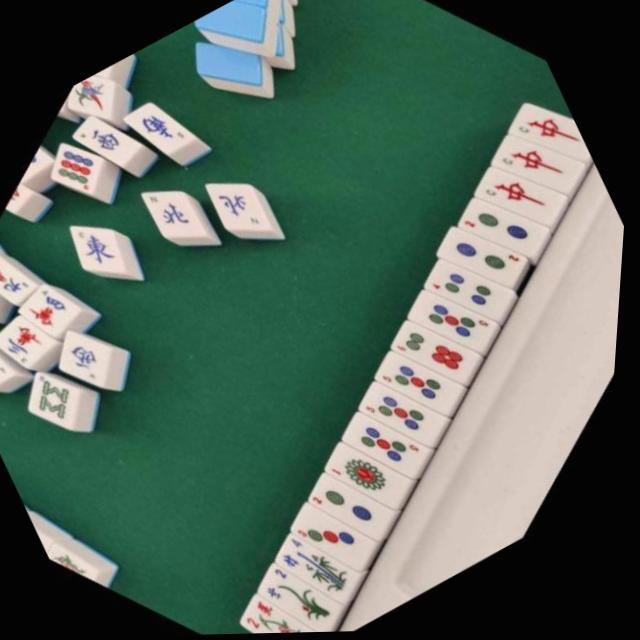bf2: (249, 540, 365, 635)
bf4: (268, 510, 380, 624)
bs2: (236, 575, 342, 635)
hdr: (464, 144, 577, 258), (485, 115, 589, 221), (503, 88, 596, 186)
sd1: (315, 418, 431, 536)
sd2: (299, 449, 414, 565), (427, 201, 540, 315), (450, 177, 556, 284)
sd3: (285, 481, 396, 594)
sd4: (416, 238, 523, 346)
sd5: (331, 387, 448, 505), (363, 326, 478, 443), (348, 357, 463, 473), (399, 267, 509, 379)
sd6: (383, 297, 493, 409)
